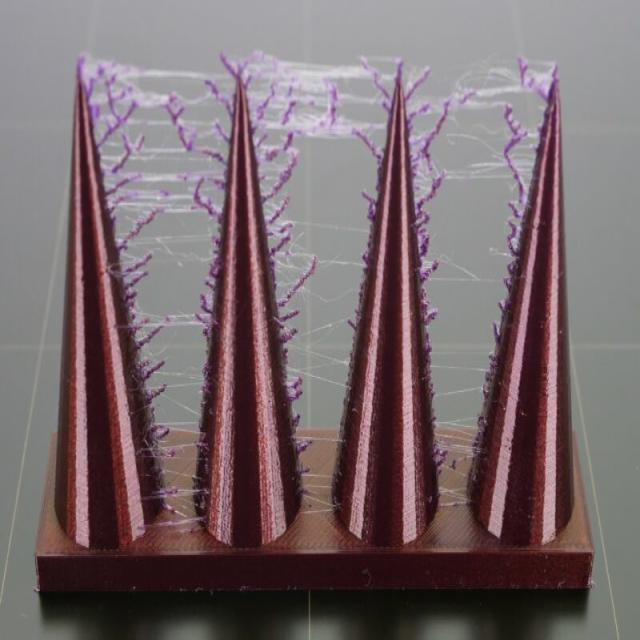Stringing: (411, 70, 536, 286), (90, 74, 228, 266), (262, 74, 376, 301)
